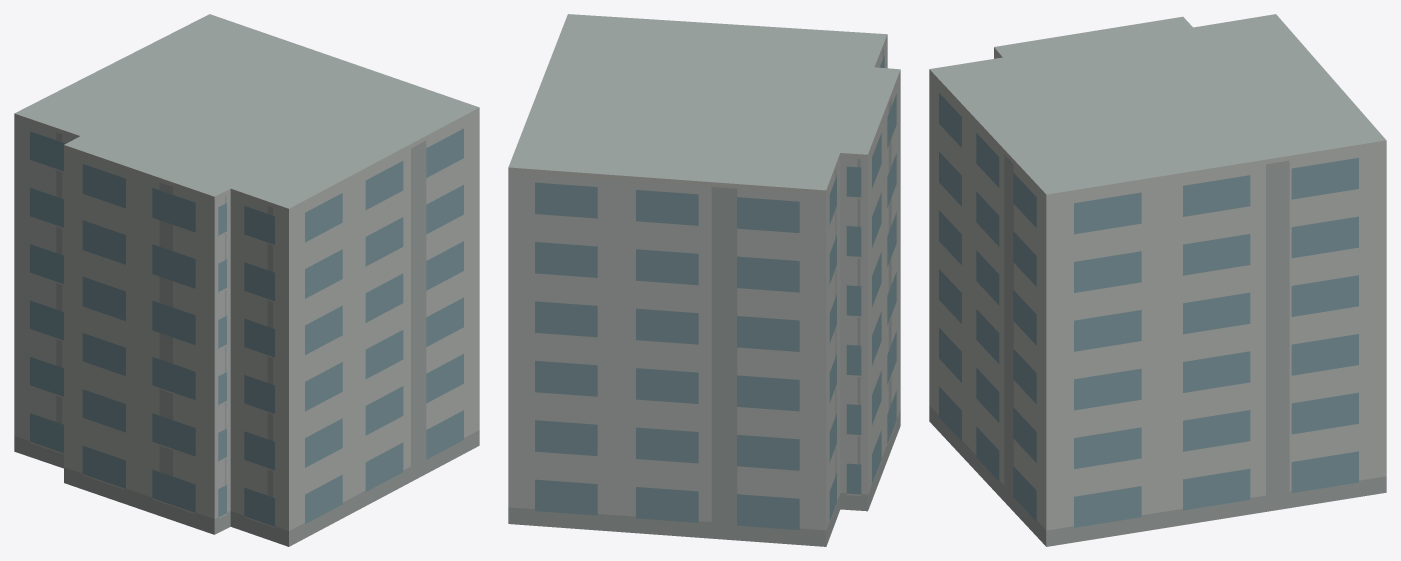
Rendered from survey-upis-32834165.glb.
3 renders of one model, left to right at view 1: azimuth 30°, elevation 25°; view 2: azimuth 150°, elevation 25°; view 3: azimuth 270°, elevation 25°, orthographic. The views are drawn at different scales.
Visible parts, largest first — view 1: survey-upis-32834165.tmp; view 2: survey-upis-32834165.tmp; view 3: survey-upis-32834165.tmp.
Boxes of the visible parts, left/top/right/bottom form: survey-upis-32834165.tmp: left=14, top=14, right=479, bottom=546; survey-upis-32834165.tmp: left=508, top=14, right=900, bottom=546; survey-upis-32834165.tmp: left=929, top=14, right=1386, bottom=546.
Size of the model in its own units: 20.13 by 18.3 by 21.54.
